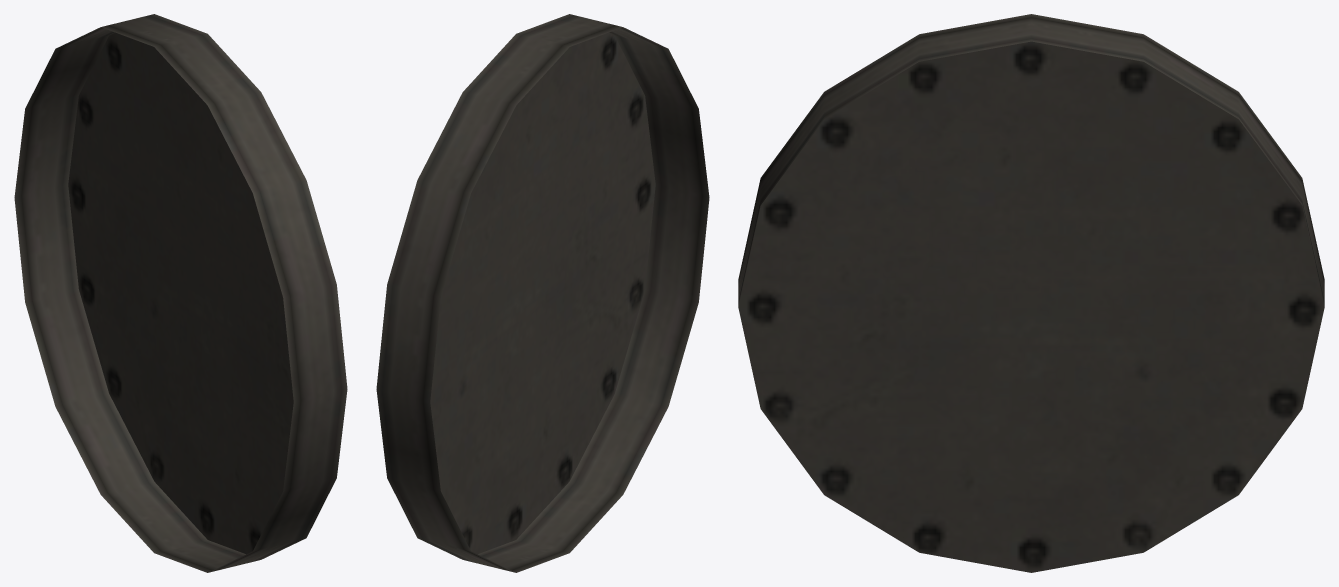
File: com_pipe_8_fit_white_clean_lod0.glb
3 renders of one model, left to right at view 1: azimuth 30°, elevation 25°; view 2: azimuth 150°, elevation 25°; view 3: azimuth 270°, elevation 25°, orthographic. The views are drawn at different scales.
Visible parts, largest first — view 1: surf0; view 2: surf0; view 3: surf0.
Part boxes in pixels (x1=…): surf0: x1=14, y1=14, x2=347, y2=572; surf0: x1=376, y1=14, x2=709, y2=572; surf0: x1=738, y1=14, x2=1324, y2=572.
Size of the model in its own units: 2 by 18 by 18.
